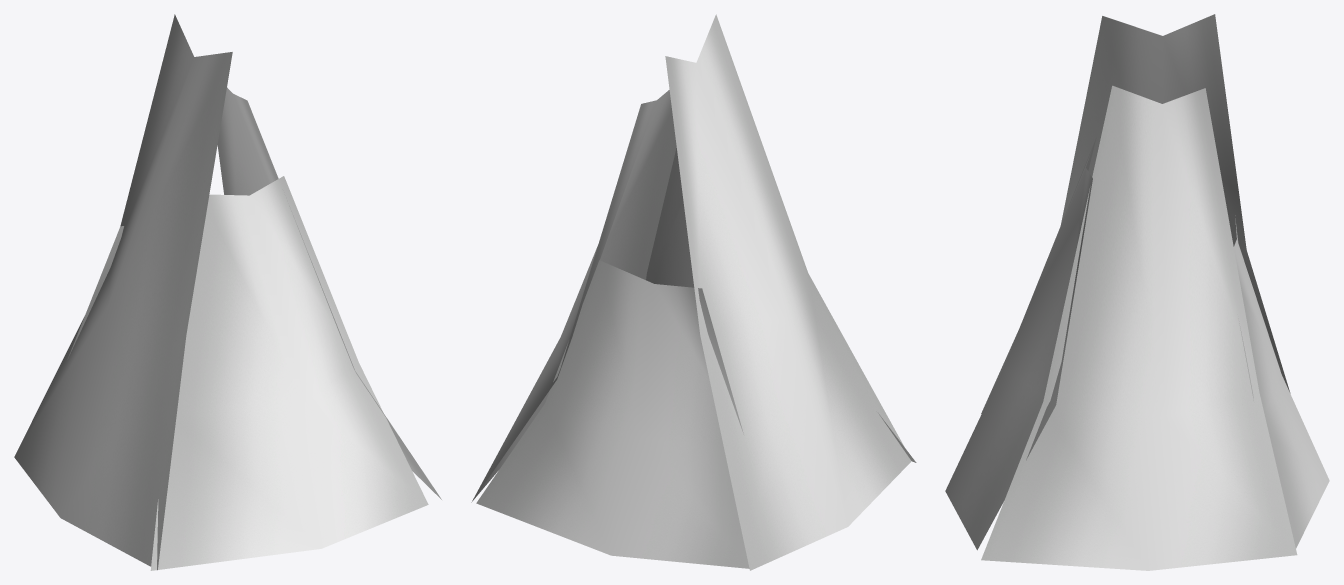
The model's file is terokkarweb04.obj.
The picture shows the model from 3 angles, left to right: view 1: azimuth 30°, elevation 25°; view 2: azimuth 150°, elevation 25°; view 3: azimuth 270°, elevation 25°; orthographic projection. The views are drawn at different scales.
Visible parts, largest first — view 1: terokkarweb04; view 2: terokkarweb04; view 3: terokkarweb04.
Part boxes in pixels (bbox=[...]): terokkarweb04: bbox=[14, 14, 441, 570]; terokkarweb04: bbox=[471, 14, 916, 570]; terokkarweb04: bbox=[945, 14, 1329, 570].
Size of the model in its own units: 10.05 by 13.37 by 9.95.
Materials: 1 (1 with a texture image).
